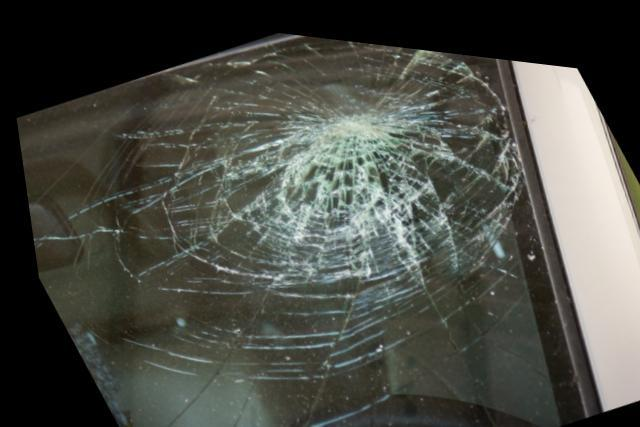glass shatter: (13, 28, 574, 427)
